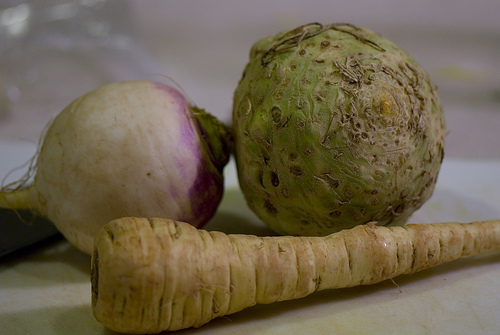turnip: (2, 75, 232, 256)
